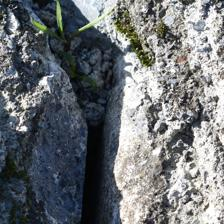Crack: (29, 34, 91, 189)
